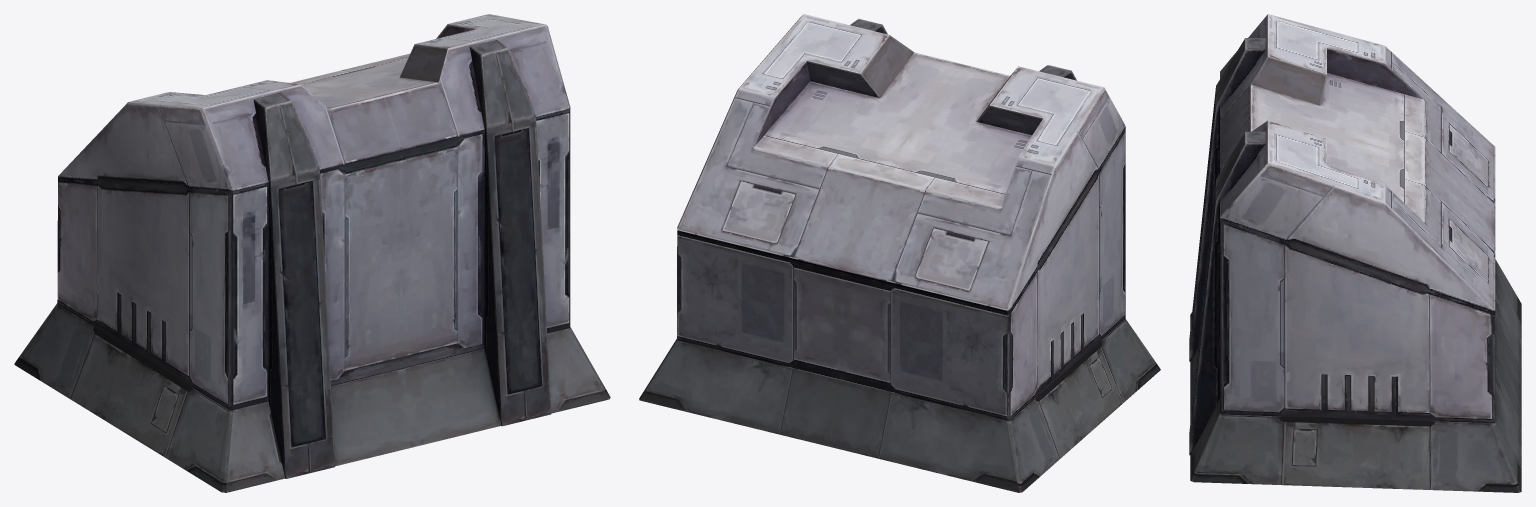
Rendered from all_arch_imp_barricade.glb.
3 renders of one model, left to right at view 1: azimuth 30°, elevation 25°; view 2: azimuth 150°, elevation 25°; view 3: azimuth 270°, elevation 25°, orthographic. The views are drawn at different scales.
Parts seen in each view (by area): view 1: all_arch_imp_barricade; view 2: all_arch_imp_barricade; view 3: all_arch_imp_barricade.
Part boxes in pixels (box(x1,y1,x2,y2)): all_arch_imp_barricade: box(14, 14, 610, 492); all_arch_imp_barricade: box(639, 14, 1160, 492); all_arch_imp_barricade: box(1189, 14, 1521, 492).
Size of the model in its own units: 0.2465 by 0.1871 by 0.1822.
Materials: 1 (1 with a texture image).
